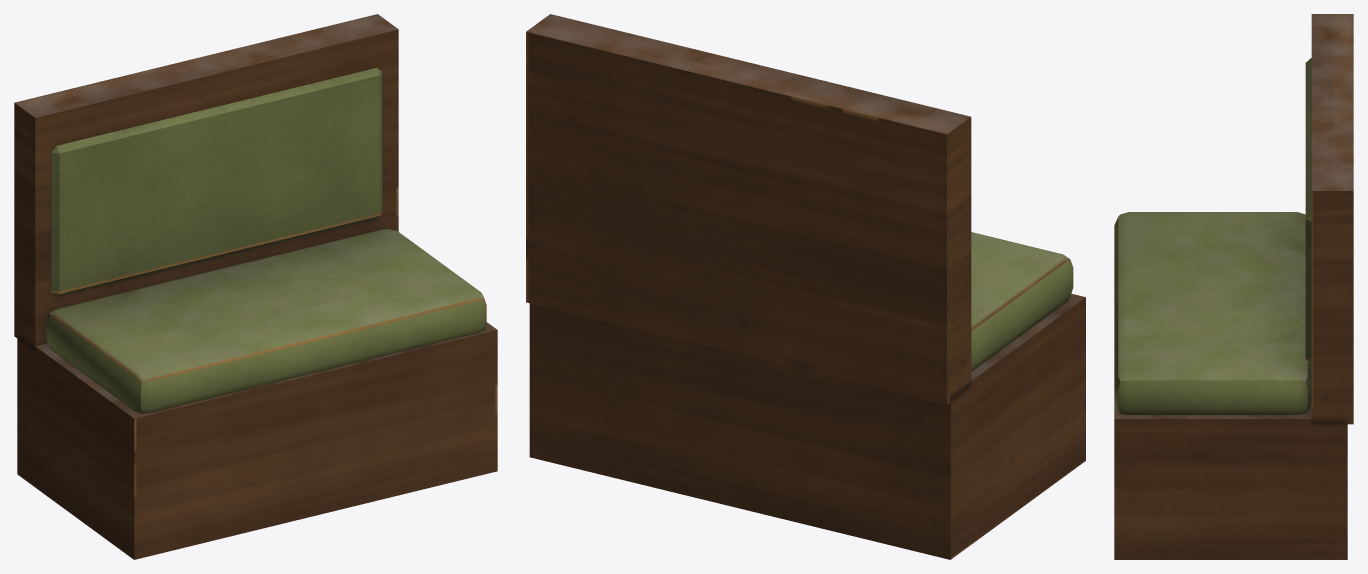
The model's file is H_HallBench_3.fbx.
3 renders of one model, left to right at view 1: azimuth 30°, elevation 25°; view 2: azimuth 150°, elevation 25°; view 3: azimuth 270°, elevation 25°, orthographic. The views are drawn at different scales.
Parts seen in each view (by area): view 1: H_HallBench_3; view 2: H_HallBench_3; view 3: H_HallBench_3.
Boxes of the visible parts, bbox=[...] form: H_HallBench_3: bbox=[14, 14, 497, 559]; H_HallBench_3: bbox=[526, 14, 1085, 559]; H_HallBench_3: bbox=[1114, 14, 1353, 559].
Bounding box in the file's own units: 350 × 340 × 200.
Materials: 1 (1 with a texture image).
